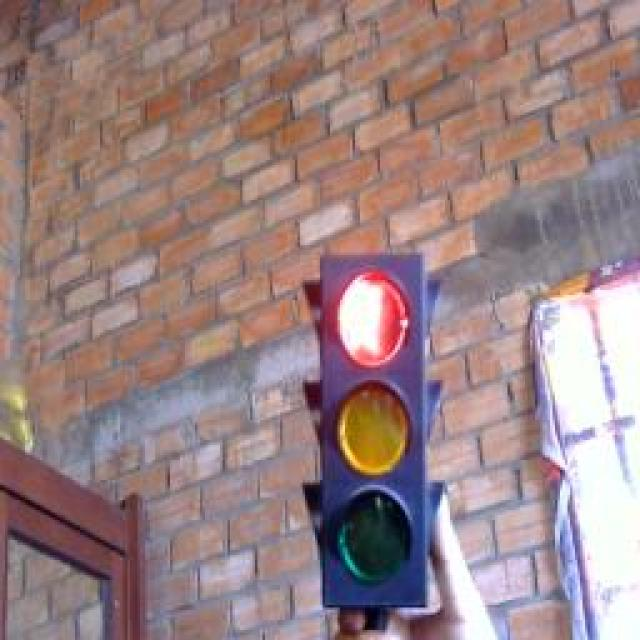-: (323, 255, 421, 372)
